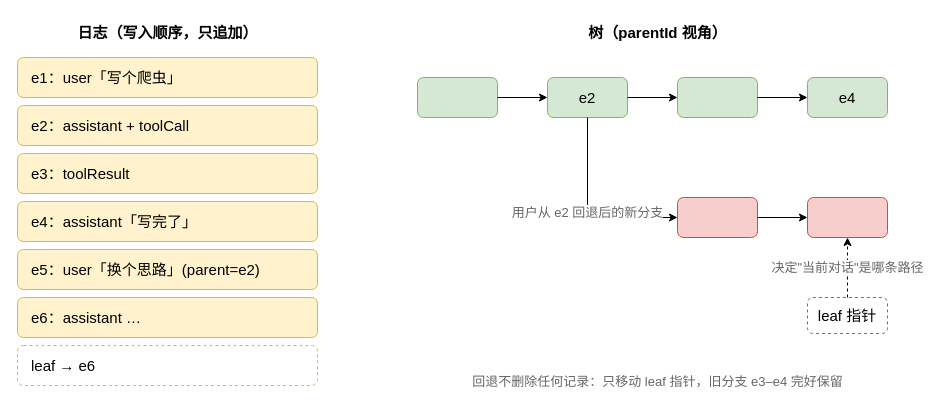
The diagram is 941 pixels wide and 414 high, and some of its shapes have lost their labels. Here are the shapes that lost their labels. From the top down, the centre of each, then its label:
the point at 457,97: e1
the point at 717,97: e3
the point at 717,217: e5
the point at 847,217: e6
